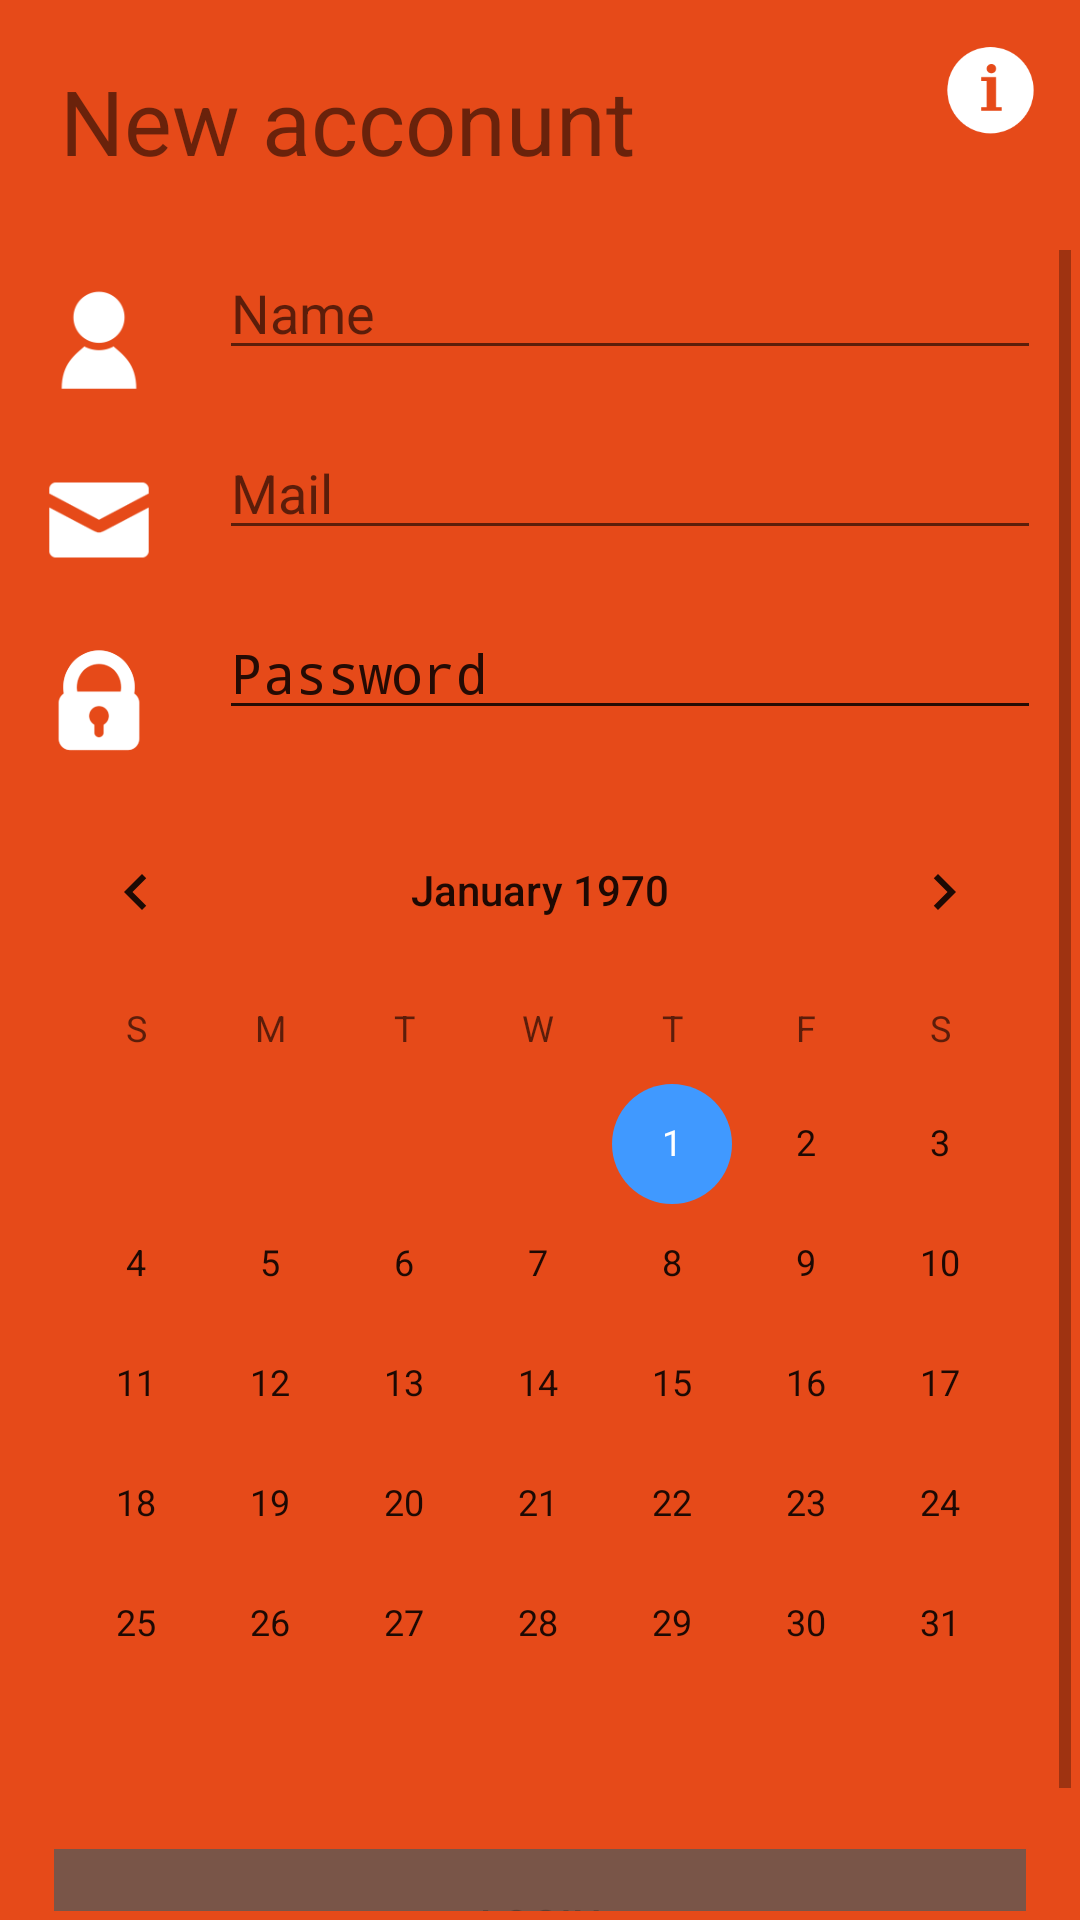

Icons on this 1080×1920 Android screen, each with its box as (x1, y1, x2, y2):
information: (947, 47, 1034, 134)
user: (61, 291, 137, 389)
